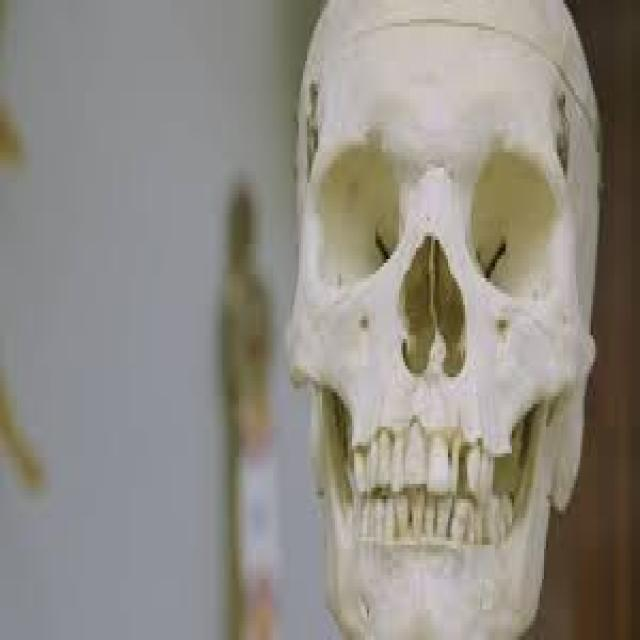skull: (280, 0, 608, 640)
